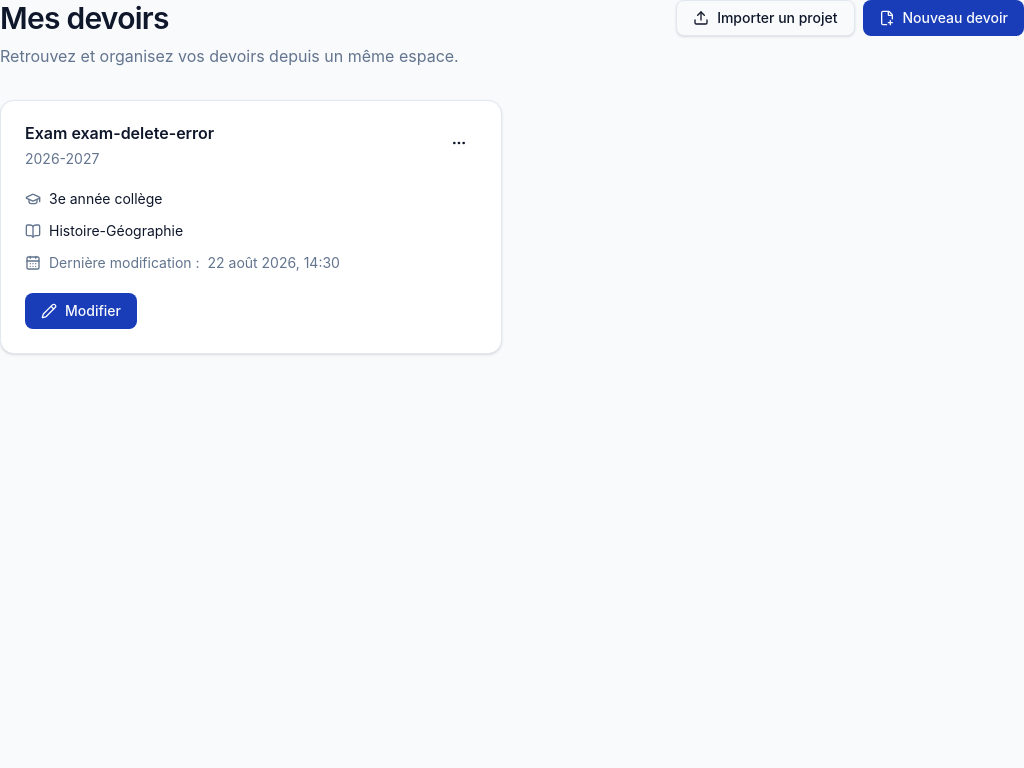
Test: DashboardPage › keeps the card and reports an error when deletion fails
The width and height of the screenshot is (1024, 768).
Expected: the text "Exam exam-delete-error" is shown, 25,125 -> 214,141
Click the button named "Actions pour Exam exam-delete-error".
click(459, 143)  # box 441,125 -> 477,161
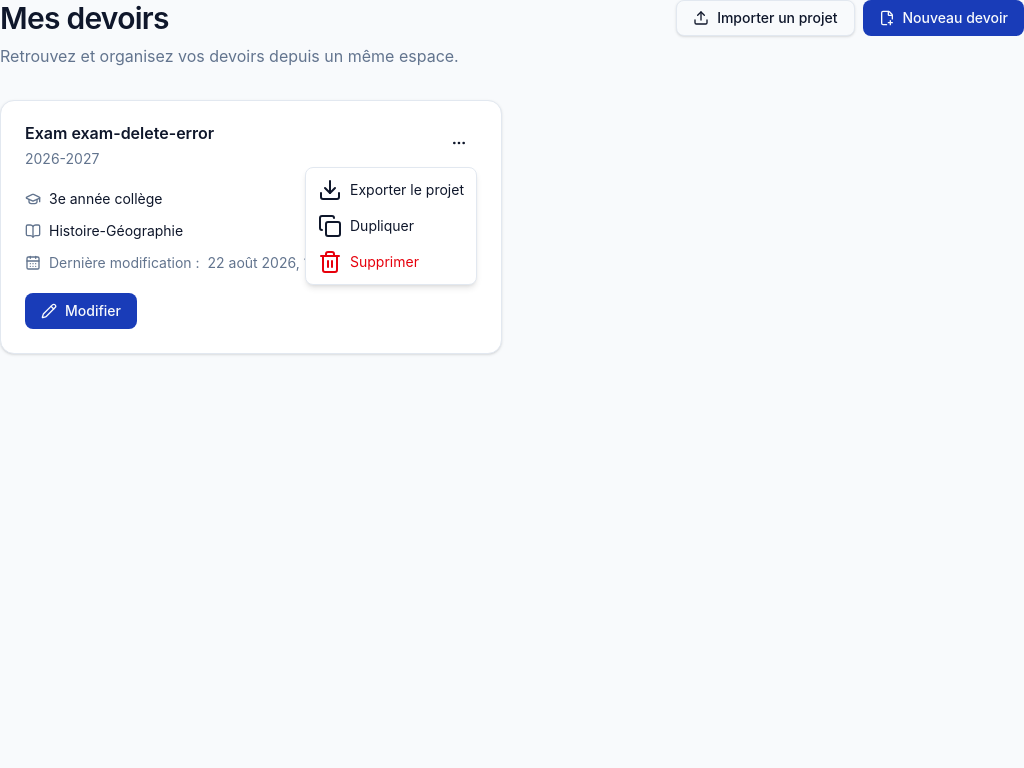
Click the menu item "Supprimer".
click(368, 262)  # box 318,250 -> 419,274
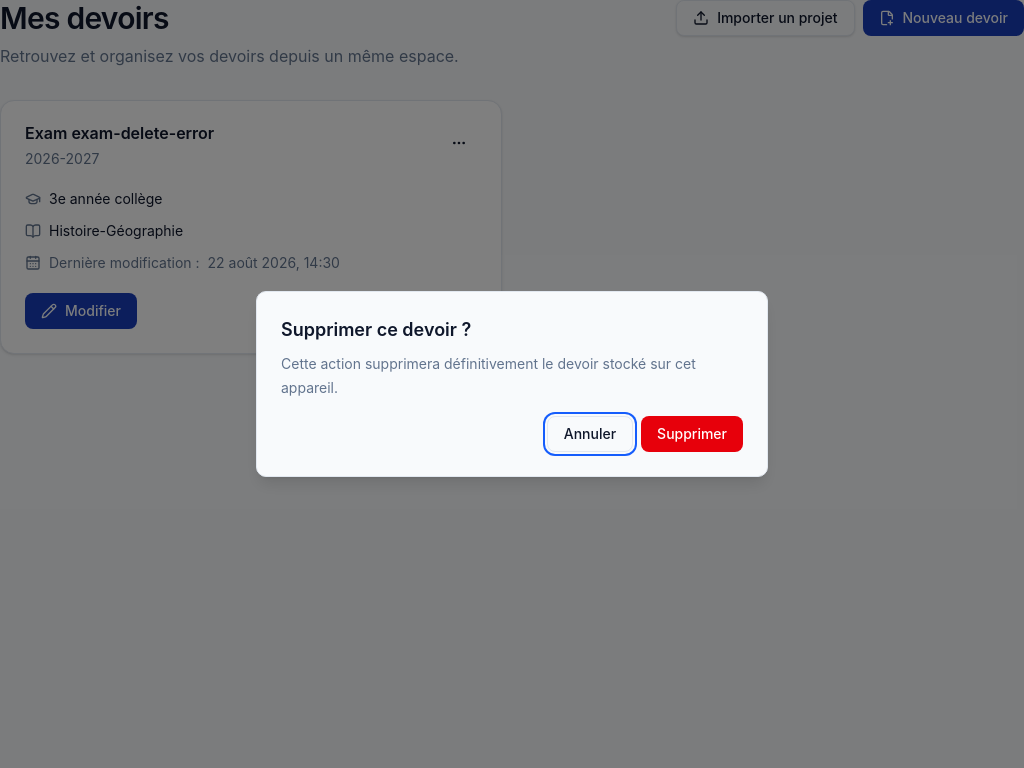
Click the button "Supprimer".
click(692, 434)  # box 641,416 -> 743,452
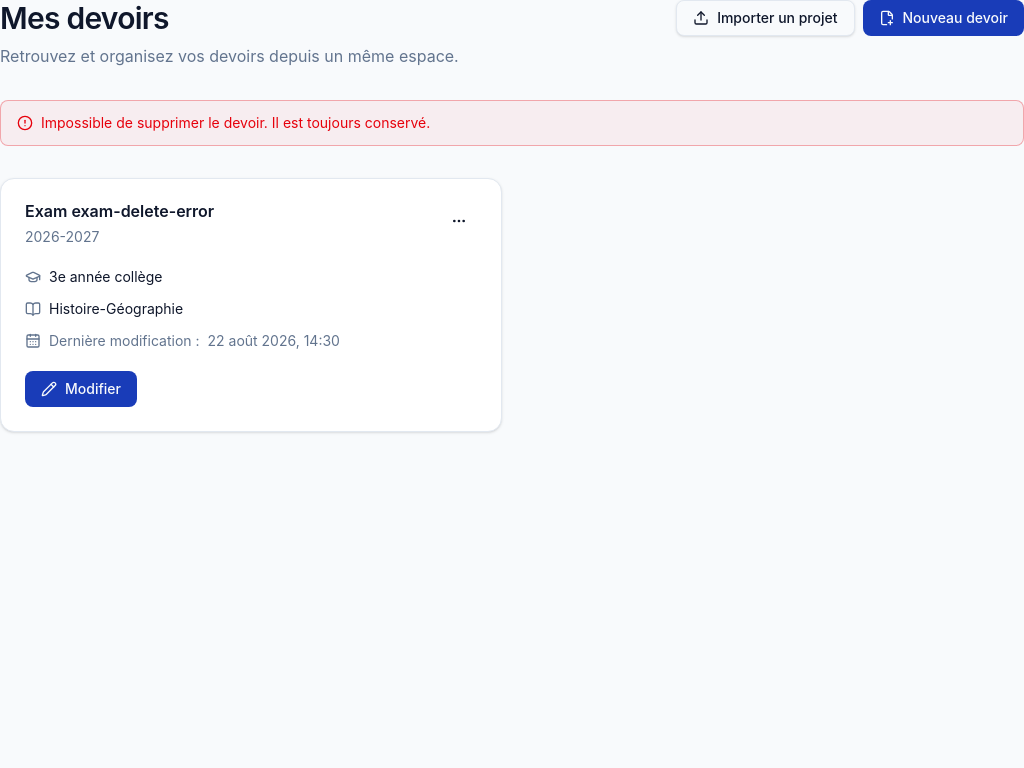
Expected: the text "Exam exam-delete-error" is shown, 25,203 -> 214,219
Now the text "Impossible de supprimer le devoir. Il est toujours conservé." is shown, box 41,113 -> 430,133
